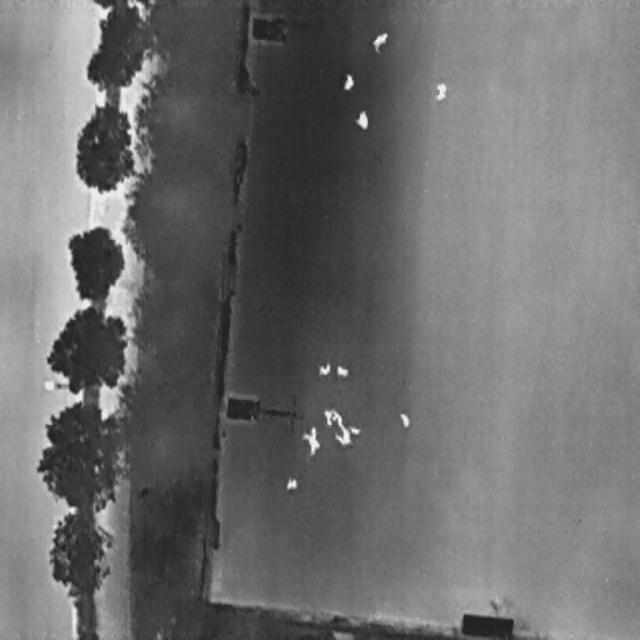Person: (297, 422, 323, 458), (367, 25, 391, 55), (334, 421, 351, 449), (352, 108, 370, 132), (431, 78, 448, 102), (340, 70, 356, 94), (397, 408, 412, 430), (334, 361, 349, 380), (329, 405, 342, 424), (347, 422, 362, 438), (284, 475, 298, 491), (322, 405, 333, 425), (317, 361, 331, 375)
